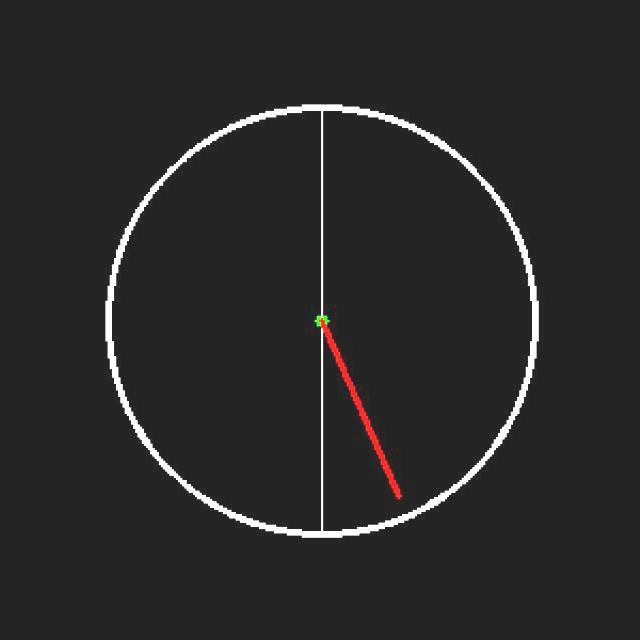Needle_Tip: (370, 458, 417, 499)
Needle_base: (298, 284, 360, 357)
